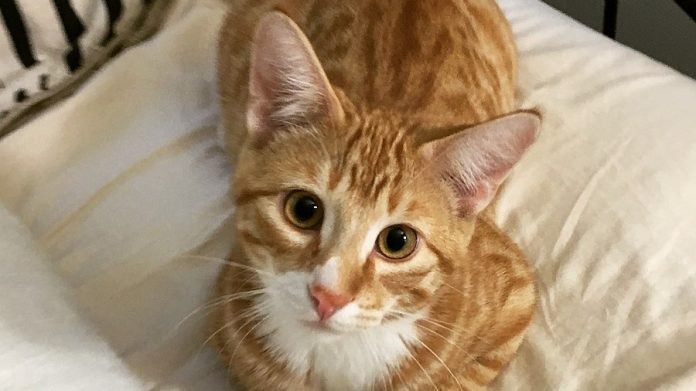cat: (214, 3, 529, 390)
